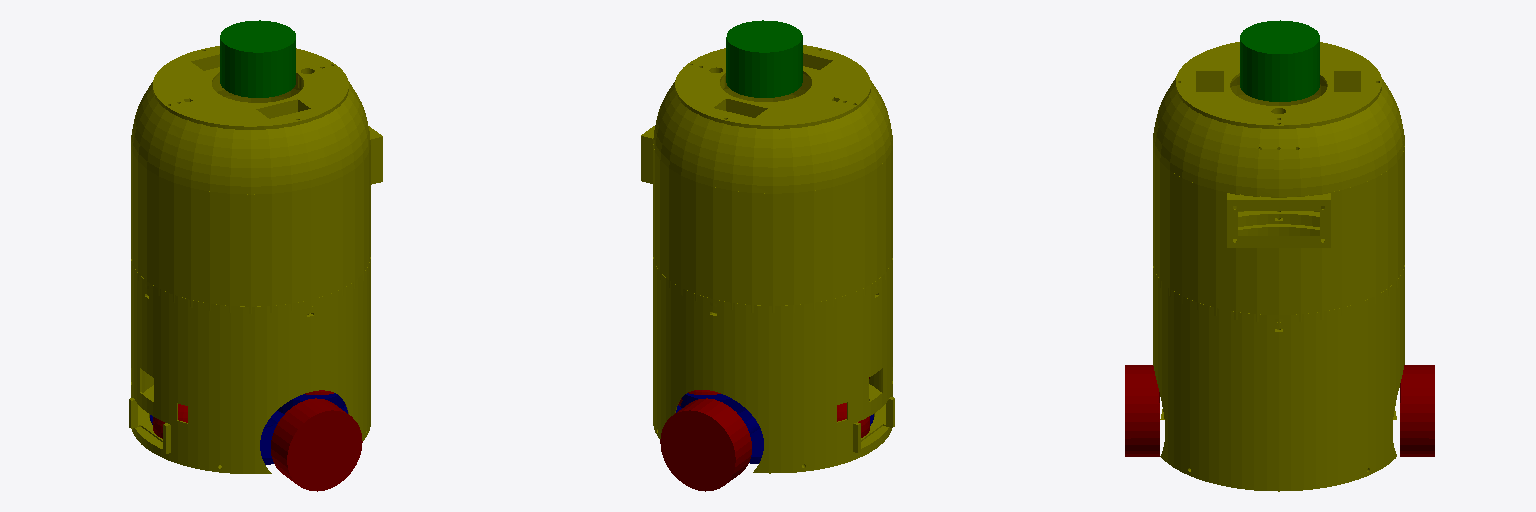
URDF robot description (robot):
<?xml version="1.0"?>
<robot name="robot">

  <!--BASE FOOTPRINT-->
  <link name="base_footprint" />

  <!--===== Defining all colours here =====-->
  <material name="Orange">
    <color rgba="0.5 0.2 0.0 1" />
  </material>
  <material name="Yellow">
    <color rgba="0.5 0.5 0.0 1" />
  </material>
  <material name="Red">
    <color rgba="0.5 0.0 0.0 1" />
  </material>
  <material name="Blue">
    <color rgba="0.0 0.0 0.4 1" />
  </material>
  <material name="Green">
    <color rgba="0.0 0.4 0.0 1" />
  </material>


  <!--========================================== BASE LINK ==========================================-->
  <link name="base_link">
    <inertial>
      <origin xyz="0 0 0" rpy="0 0 0" />
      <mass value="70.0" />
      <inertia ixx="0.079945" ixy="0.00012078" ixz="0.00015606" iyy="0.068406" iyz="-0.0049053" izz="0.12343" />
    </inertial>
  <visual>
    <origin xyz="0 0 -0.015" rpy="0 0 -1.57" />
    <geometry>
      <!--cylinder length="0.007" radius="0.13"/-->
      <mesh filename="package://my_robot_model/urdf/meshes/Base_Plate.stl" scale="0.001 0.001 0.001"/>
    </geometry>
    <material name="Blue" />
  </visual>
  <collision>
    <origin xyz="0 0 -0.015" rpy="0 0 -1.57" />
    <geometry>
      <!--cylinder length="0.007" radius="0.13"/-->
      <mesh filename="package://my_robot_model/urdf/meshes/Base_Plate.stl" scale="0.001 0.001 0.001"/>
    </geometry>
  </collision>
  </link>


  <!--========================================== BASE JOINT ==========================================-->
  <joint name="base_joint" type="fixed">
    <origin xyz="0 0 0.0335" rpy="0 0 0" />
    <parent link="base_footprint" />
    <child link="base_link" />
    <axis xyz="0 0 0" />
  </joint>


  <!--========================================== ROBOT BODY LINK==========================================-->
  <link name="robot_body_link">
    <inertial>
      <origin xyz="0 0 0" rpy="0 0 0" />
      <mass value="70.0" />
      <inertia ixx="0.079945" ixy="0.00012078" ixz="0.00015606" iyy="0.068406" iyz="-0.0049053" izz="0.12343" />
    </inertial>
  <visual>
    <!--origin xyz="0 0 0" rpy="0 0 0" /-->
    <origin xyz="0.0 0 -0.19125" rpy="0 0 -1.57" />
    <geometry>
      <!--cylinder length="0.35" radius="0.13"/-->
      <mesh filename="package://my_robot_model/urdf/meshes/Robot_Cover_Full.stl" scale="0.001 0.001 0.001"/>
    </geometry>
    <material name="Yellow" />
  </visual>
  <collision>
    <!--origin xyz="0 0 0" rpy="0 0 0" /-->
    <origin xyz="0.0 0 -0.19125" rpy="0 0 -1.57" />
    <geometry>
      <!--cylinder length="0.35" radius="0.13"/-->
      <mesh filename="package://my_robot_model/urdf/meshes/Robot_Cover_Full.stl" scale="0.001 0.001 0.001"/>
    </geometry>
  </collision>
  </link>


  <!--========================================== ROBOT BODY JOINT ==========================================-->
  <joint name="robot_body_joint" type="fixed">
    <origin xyz="0 0 0.175" rpy="0 0 0" />
    <parent link="base_link" />
    <child link="robot_body_link" />
    <axis xyz="0 0 0" />
  </joint>


  <!--========================================== RIGHT WHEEL LINK ==========================================-->
  <link name="right_wheel_link">
    <inertial>
      <origin xyz="0.0 0.0 0.0" rpy="0 0 0" />
      <mass value="0.50917" />
      <inertia ixx="0.0012185" ixy="1.8059E-20" ixz="3.0427E-20" iyy="0.0012185" iyz="-4.0491E-20" izz="0.0022928" />
    </inertial>
    <visual>
      <origin xyz="0 0 0" rpy="0 0 0" />
      <geometry>
        <cylinder length="0.03" radius="0.04" />
      </geometry>
      <material name="Red" />
    </visual>
    <collision>
      <origin xyz="0 0 0" rpy="0 0 0" />
      <geometry>
        <cylinder length="0.03" radius="0.04" />
      </geometry>
    </collision>
  </link>

  <!--========================================== RIGHT WHEEL JOINT ==========================================-->
  <joint name="right_wheel_joint" type="continuous">
    <origin xyz="0.0 -0.12 0.01" rpy="1.571 0 0" />
    <parent link="base_link" />
    <child link="right_wheel_link" />
    <axis xyz="0 0 -1" />
  </joint>

  <transmission name="right_wheel_trans" type="SimpleTransmission">
    <type>transmission_interface/SimpleTransmission</type>
    <actuator name="right_wheel_motor">
      <mechanicalReduction>1</mechanicalReduction>
    </actuator>
    <joint name="right_wheel_joint">
      <hardwareInterface>VelocityJointInterface</hardwareInterface>
    </joint>
  </transmission>




  <!--========================================== LEFT WHEEL LINK ==========================================-->
  <link name="left_wheel_link">
    <inertial>
      <origin xyz="0.0 0.0 0.0" rpy="0 0 0" />
      <mass value="0.50917" />
      <inertia ixx="0.0012185" ixy="1.8059E-20" ixz="3.0427E-20" iyy="0.0012185" iyz="-4.0491E-20" izz="0.0022928" />
    </inertial>
    <visual>
      <origin xyz="0 0 0" rpy="0 0 0" />
      <geometry>
        <cylinder length="0.03" radius="0.04" />
      </geometry>
      <material name="Red" />
    </visual>
    <collision>
      <origin xyz="0 0 0" rpy="0 0 0" />
      <geometry>
        <cylinder length="0.03" radius="0.04" />
      </geometry>
    </collision>
  </link>

  <!--========================================== LEFT WHEEL JOINT ==========================================-->
  <joint name="left_wheel_joint" type="continuous">
    <origin xyz="0.0 0.12 0.01" rpy="-1.571 0 0" />
    <parent link="base_link" />
    <child link="left_wheel_link" />
    <axis xyz="0 0 1" />
  </joint>

  <transmission name="left_wheel_trans" type="SimpleTransmission">
    <type>transmission_interface/SimpleTransmission</type>
    <actuator name="left_wheel_motor">
      <mechanicalReduction>1</mechanicalReduction>
    </actuator>
    <joint name="left_wheel_joint">
      <hardwareInterface>VelocityJointInterface</hardwareInterface>
    </joint>
  </transmission>




  <!--=============================================== FRONT CASTOR WHEEL LINK ===============================================-->
  <link name="front_castor_wheel_link">
    <inertial>
      <origin xyz="0.0 0.0 0.0" rpy="0 0 0" />
      <mass value="0.50917" />
      <inertia ixx="0.0012185" ixy="1.8059E-20" ixz="3.0427E-20" iyy="0.0012185" iyz="-4.0491E-20" izz="0.0022928" />
    </inertial>
    <visual>
      <origin xyz="0 0 0" rpy="0 0 0" />
      <geometry>
        <sphere radius="0.03" />
      </geometry>
      <material name="Red" />
    </visual>
    <collision>
      <origin xyz="0 0 0" rpy="0 0 0" />
      <geometry>
        <sphere radius="0.03" />
      </geometry>
    </collision>
  </link>

  <!--============================================ FRONT CASTOR WHEEL JOINT ============================================-->
  <joint name="front_castor_wheel_joint" type="continuous">
    <origin xyz="0.07 0.0 0.0" rpy="0 0 0" />
    <parent link="base_link" />
    <child link="front_castor_wheel_link" />
    <axis xyz="0 1 1" />
  </joint>


  <!--=============================================== REAR CASTOR WHEEL LINK ===============================================-->
  <link name="rear_castor_wheel_link">
    <inertial>
      <origin xyz="0.0 0.0 0.0" rpy="0 0 0" />
      <mass value="0.50917" />
      <inertia ixx="0.0012185" ixy="1.8059E-20" ixz="3.0427E-20" iyy="0.0012185" iyz="-4.0491E-20" izz="0.0022928" />
    </inertial>
    <visual>
      <origin xyz="0 0 0" rpy="0 0 0" />
      <geometry>
        <sphere radius="0.03" />
      </geometry>
      <material name="Red" />
    </visual>
    <collision>
      <origin xyz="0 0 0" rpy="0 0 0" />
      <geometry>
        <sphere radius="0.03" />
      </geometry>
    </collision>
  </link>

  <!--============================================ REAR CASTOR WHEEL JOINT ============================================-->
  <joint name="rear_castor_wheel_joint" type="continuous">
    <origin xyz="-0.07 0.0 0.0" rpy="0 0 0" />
    <parent link="base_link" />
    <child link="rear_castor_wheel_link" />
    <axis xyz="0 1 1" />
  </joint>


  <!--========================================== LASER LINK ==========================================-->
  <link name="laser_link">
    <inertial>
      <origin xyz="0 0 0" rpy="0 0 0" />
      <mass value="0.0093378" />
      <inertia ixx="0" ixy="0" ixz="0" iyy="0" iyz="0" izz="0" /> 
    </inertial>
    <visual>
      <origin xyz="0 0 0" rpy="0 0 0" />
      <geometry>
        <cylinder length="0.046" radius="0.035" />
      </geometry>
      <material name="Green" />
    </visual>
    <collision>
      <origin xyz="0 0 0" rpy="0 0 0" />
      <geometry>
        <cylinder length="0.046" radius="0.035" />
      </geometry>
    </collision>
  </link>

  <!--========================================== LASER JOINT ==========================================-->
  <joint name="laser_joint" type="fixed">
    <origin xyz="0.0075 0.0 0.35" rpy="0 0 3.14" />
    <parent link="base_link" />
    <child link="laser_link" />
    <axis xyz="0 0 0" />
  </joint>

  <!--========================================== GAZEBO TAGS ==========================================-->
  <gazebo reference="base_link">
    <material>Gazebo/Blue</material>
  </gazebo>
  
  <gazebo reference="robot_body_link">
    <material>Gazebo/Yellow</material>
  </gazebo>

  <gazebo reference="right_wheel_link">
    <material>Gazebo/Red</material>
  </gazebo>

  <gazebo reference="left_wheel_link">
    <material>Gazebo/Red</material>
  </gazebo>

  <gazebo reference="front_castor_wheel_link">
    <material>Gazebo/Red</material>
  </gazebo>
  
  <gazebo reference="rear_castor_wheel_link">
    <material>Gazebo/Red</material>
  </gazebo>

  <gazebo reference="laser_link">
    <material>Gazebo/Green</material>
  </gazebo>

  <!--========================================== DIFF DRIVE PLUGIN - GAZEBO ==========================================-->

	<gazebo>
	  <plugin name="differential_drive_controller" filename="libgazebo_ros_diff_drive.so">
		<!-- Plugin update rate in Hz -->
		<updateRate>1</updateRate>
		<!-- Name of left joint, defaults to `left_joint` -->
		<leftJoint>left_wheel_joint</leftJoint>
		<!-- Name of right joint, defaults to `right_joint` -->
		<rightJoint>right_wheel_joint</rightJoint>
		<!-- The distance from the center of one wheel to the other, in meters, defaults to 0.34 m -->
		<wheelSeparation>0.235</wheelSeparation>
		<!-- Diameter of the wheels, in meters, defaults to 0.15 m -->
		<wheelDiameter>0.080</wheelDiameter>
		<!-- Wheel acceleration, in rad/s^2, defaults to 0.0 rad/s^2 -->
		<wheelAcceleration>0.75</wheelAcceleration>
		<!-- Maximum torque which the wheels can produce, in Nm, defaults to 5 Nm -->
		<wheelTorque>500</wheelTorque>
		<!-- Topic to receive geometry_msgs/Twist message commands, defaults to `cmd_vel` -->
		<commandTopic>/diffbot_controller/cmd_vel</commandTopic>
		<!-- Topic to publish nav_msgs/Odometry messages, defaults to `odom` -->
		<odometryTopic>odom</odometryTopic>
		<!-- Odometry frame, defaults to `odom` -->
		<odometryFrame>odom</odometryFrame>
		<!-- Robot frame to calculate odometry from, defaults to `base_footprint` -->
		<robotBaseFrame>base_footprint</robotBaseFrame>
		<!-- Odometry source, 0 for ENCODER, 1 for WORLD, defaults to WORLD -->
		<odometrySource>0</odometrySource>
		<!-- Set to true to publish transforms for the wheel links, defaults to false -->
		<publishWheelTF>false</publishWheelTF>
		<!-- Set to true to publish transforms for the odometry, defaults to true -->
		<publishOdom>false</publishOdom>
		<!-- Set to true to publish sensor_msgs/JointState on /joint_states for the wheel joints, defaults to false -->
		<publishWheelJointState>false</publishWheelJointState>
		<publishOdomTF>false</publishOdomTF>
		<publishTf>false</publishTf>
		<!-- Set to true to swap right and left wheels, defaults to true -->
		<legacyMode>false</legacyMode>
	  </plugin>
	</gazebo>
  <!--========================================== LIDAR PLUGIN - GAZEBO ==========================================-->
  <!--Sample size of 4000 (original value of RPLidarA1M8) gives an error-->
  <gazebo reference="laser_link">
      <sensor type="gpu_ray" name="laser">
      <!--sensor type="ray" name="laser"-->
          <pose>0 0 0 0 0 0</pose>
          <visualize>false</visualize>
          <update_rate>40</update_rate>
          <ray>
              <scan>
                  <horizontal>
                      <samples>720</samples>
                      <resolution>1</resolution>
                      <min_angle>0</min_angle>
                      <max_angle>6.28</max_angle>
                  </horizontal>
              </scan>
              <range>
                  <min>0.1</min>
                  <max>6</max>
                  <resolution>0.1</resolution>
              </range>
          </ray>
          <plugin name="gpu_laser" filename="libgazebo_ros_gpu_laser.so">
              <topicName>/scan</topicName>
              <frameName>laser_link</frameName>
          </plugin>
      </sensor>
  </gazebo>

</robot>


--- What the picture shows (computed from the rendered views, not written in the file) ---
Views: 3 orthographic renders of the robot side by side, from view 1: azimuth 30°, elevation 25°; view 2: azimuth 150°, elevation 25°; view 3: azimuth 270°, elevation 25°.
Model robot with 8 links and 7 joints (4 continuous, 3 fixed), rooted at base_footprint, posed every joint at zero.
Links seen in each view (by area): view 1: robot_body_link, right_wheel_link, laser_link, base_link; view 2: robot_body_link, left_wheel_link, laser_link, base_link; view 3: robot_body_link, laser_link, left_wheel_link, right_wheel_link.
Boxes of the visible links, bbox=[...] form: robot_body_link: bbox=[129, 46, 382, 473]; right_wheel_link: bbox=[271, 398, 362, 491]; laser_link: bbox=[220, 20, 295, 97]; base_link: bbox=[150, 393, 347, 464]; robot_body_link: bbox=[641, 45, 894, 473]; left_wheel_link: bbox=[660, 398, 751, 491]; laser_link: bbox=[726, 20, 802, 97]; base_link: bbox=[676, 393, 873, 463]; robot_body_link: bbox=[1153, 42, 1404, 491]; laser_link: bbox=[1240, 20, 1319, 101]; left_wheel_link: bbox=[1400, 365, 1434, 456]; right_wheel_link: bbox=[1125, 365, 1159, 456].
Size in the robot's own frame: 0.224 by 0.27 by 0.403 metres.
2 mesh visuals loaded from 2 distinct referenced files (2 binary STL).